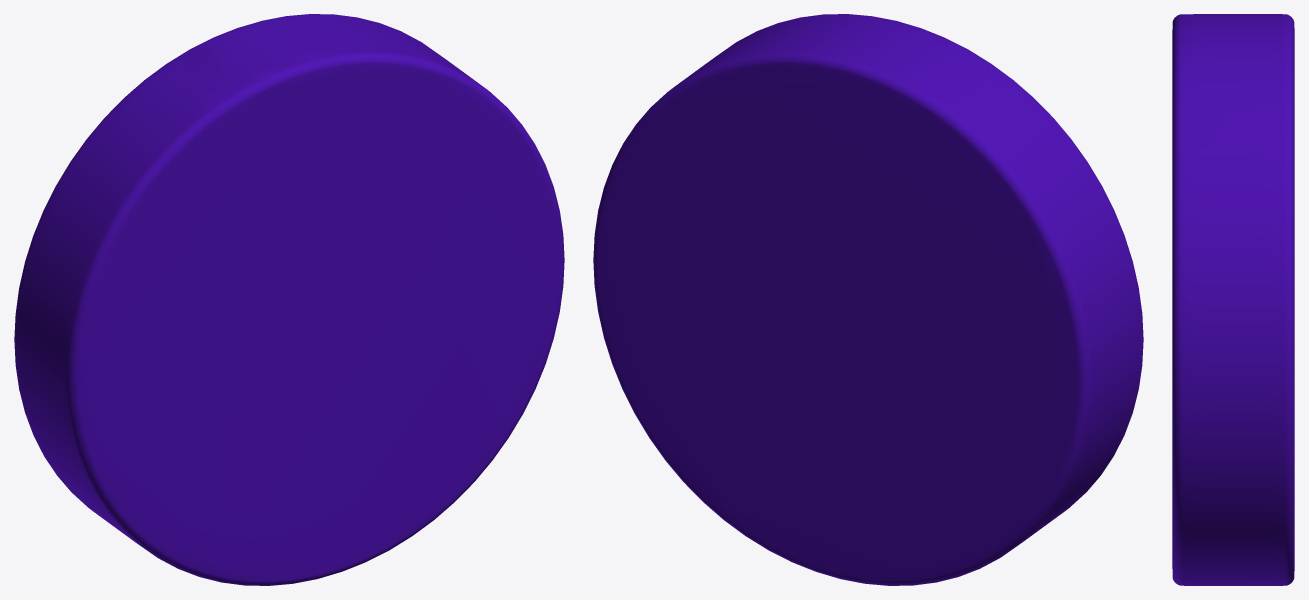
3 views of the same model, side by side, from view 1: azimuth 30°, elevation 25°; view 2: azimuth 150°, elevation 25°; view 3: azimuth 270°, elevation 25° (orthographic).
Visible parts, largest first — view 1: Cylinder; view 2: Cylinder; view 3: Cylinder.
Part boxes in pixels (x1,y1,x2,y2): Cylinder: [14, 14, 564, 585]; Cylinder: [593, 14, 1143, 585]; Cylinder: [1172, 14, 1294, 585].
Size of the model in its own units: 1.8 by 1.8 by 0.3852.
